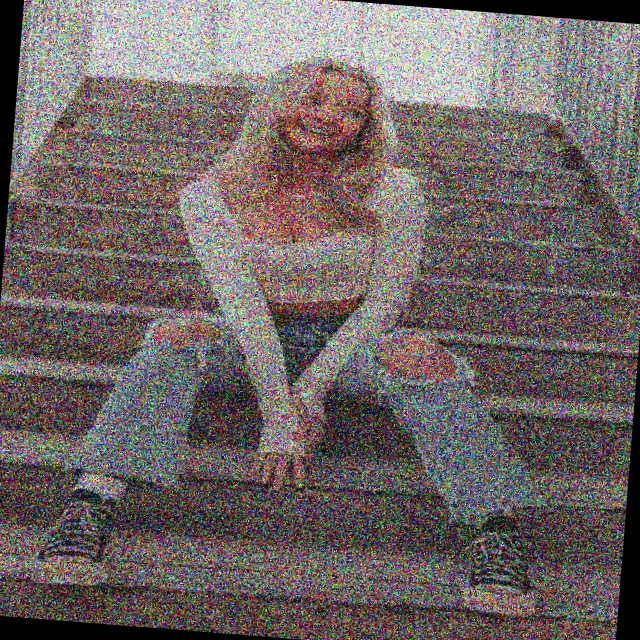Crop_Top: (224, 146, 381, 322)
ripped_pants: (55, 294, 569, 547)
